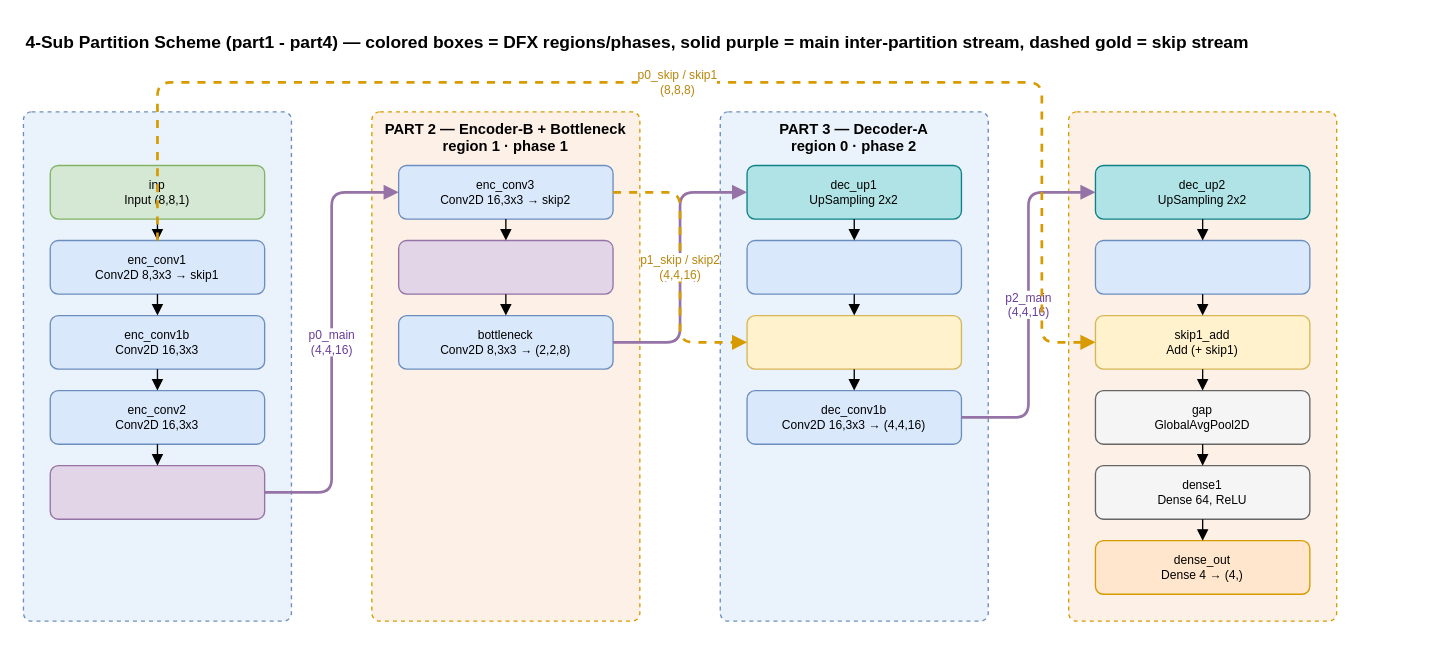
This 1441x645 diagram has some shape labels left out. The box of each missing label's shape, as (x1, y1, x2, y2) in pixels:
dec_conv1 Conv2D 16,3x3: (746, 239, 961, 294)
dec_conv2 Conv2D 8,3x3: (1094, 239, 1310, 294)
enc_pool1 MaxPool 2x2 → (4,4,16): (49, 464, 265, 519)
enc_pool2 MaxPool 2x2: (397, 239, 613, 294)
PART 1 — Encoder-A region 0 · phase 0: (22, 111, 291, 621)
PART 4 — Decoder-B + Head region 1 · phase 3: (1067, 111, 1337, 621)
skip2_add Add (+ skip2): (746, 314, 961, 369)
